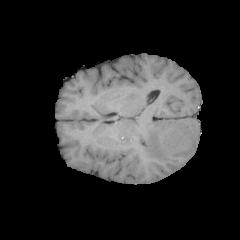glioma: (139, 120, 196, 164)
